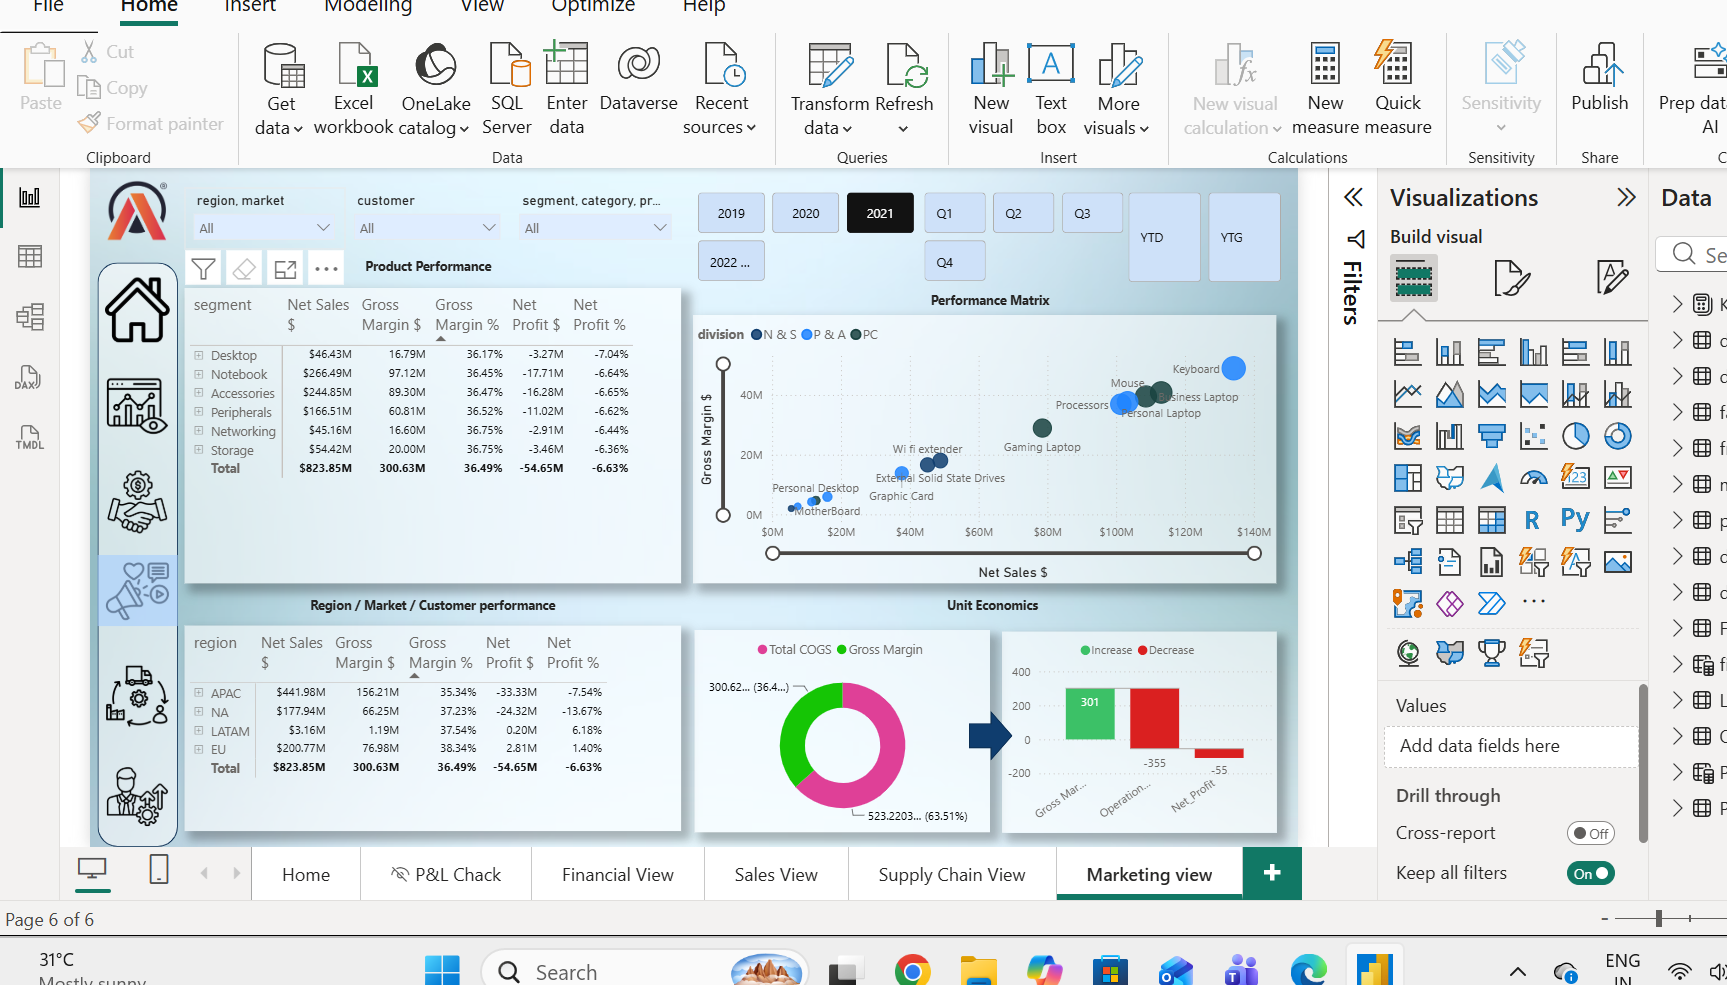

This screenshot's page, from the dashboard's own definition file:
{"tool":"powerbi","page":{"name":"Marketing view","canvas":[1280,720],"ordinal":5},"visuals":[{"type":"advancedSlicerVisual","fields":{"Values":["fiscal_year.FY Desc"]},"box":[639.4,20.7,240.2,105],"z":0},{"type":"advancedSlicerVisual","fields":{"Values":["dim_date.Quarter"]},"box":[879.6,20.7,223.3,105],"z":1000},{"type":"advancedSlicerVisual","fields":{"Values":["dim_date.YTD_YTG"]},"box":[1096,20.8,172.8,105.6],"z":2000},{"type":"slicer","fields":{"Values":[" dim_market.region"," dim_market.market"]},"box":[100.8,20.8,169.6,65.6],"z":3000},{"type":"slicer","fields":{"Values":[" dim_product.segment"," dim_product.category"," dim_product.product"]},"box":[445.4,20.7,181.3,65.2],"z":4000},{"type":"slicer","fields":{"Values":["dim_customer.customer"]},"box":[270.4,20.7,175,65.2],"z":5000},{"type":"shape","box":[8.2,100,85.2,619.7],"z":6000},{"type":"image","box":[8.2,13.1,85.2,63.9],"z":7000},{"type":"image","box":[16.4,213.1,68.9,78.7],"z":8000},{"type":"image","box":[16.4,116.4,68.9,68.9],"z":9000},{"type":"image","box":[16.4,411.5,68.9,73.8],"z":10000},{"type":"image","box":[16.4,318,68.9,72.1],"z":11000},{"type":"image","box":[16.4,521.3,68.9,77],"z":12000},{"type":"image","box":[16.4,627.9,68.9,77],"z":13000},{"type":"shape","box":[8,410.4,85.2,75.4],"z":14000},{"type":"textbox","box":[90.7,89.1,536,38.2],"z":15000},{"type":"textbox","box":[641,448.6,628.3,38.2],"z":16000},{"type":"textbox","box":[639.4,125.7,629.9,38.2],"z":17000},{"type":"pivotTable","fields":{"Rows":[" dim_product.segment"," dim_product.category"," dim_product.product"],"Values":["Key Mesures.Net Sales $","Key Mesures.Gross Margin $","Key Mesures.Gross Margin %","Key Mesures.Net_Profit $","Key Mesures.Net_Profit %"]},"box":[100.2,127.2,526.5,313.4],"z":18000},{"type":"scatterChart","fields":{"Category":[" dim_product.product"," dim_product.category"," dim_product.segment"],"X":["Key Mesures.Net Sales $"],"Y":["Key Mesures.Gross Margin $"],"Series":[" dim_product.division"],"Size":["Key Mesures.Net Sales $"]},"box":[639.4,155.9,618.7,284.7],"z":19000},{"type":"pivotTable","fields":{"Rows":[" dim_market.region"," dim_market.market"," dim_product.product"],"Values":["Key Mesures.Net Sales $","Key Mesures.Gross Margin $","Key Mesures.Gross Margin %","Key Mesures.Net_Profit $","Key Mesures.Net_Profit %"]},"box":[100.2,485.1,526.5,217.9],"z":20000},{"type":"donutChart","fields":{"Y":["Key Mesures.P & L Velue"],"Category":["P & L Rows.Description"]},"box":[641,489.9,313.4,214.7],"z":21000},{"type":"waterfallChart","fields":{"Category":["P & L Rows.Description"],"Y":["Key Mesures.P & L Velue"]},"box":[967.1,491.5,291.1,213.1],"z":22000},{"type":"shape","box":[932.1,575.8,46.1,52.5],"z":23000},{"type":"textbox","box":[100.2,448.6,526.5,38.2],"z":24000}]}

Visuals, with their boxes on the page's 1280x720 design canvas (x1, y1, x2, y2). These are canvas units, not pixel positions in the 1727x985 screenshot, which may show the page scaled, cropped or inside an application window:
advancedSlicerVisual - fiscal_year.FY Desc: {"left": 639, "top": 21, "right": 880, "bottom": 126}
advancedSlicerVisual - dim_date.Quarter: {"left": 880, "top": 21, "right": 1103, "bottom": 126}
advancedSlicerVisual - dim_date.YTD_YTG: {"left": 1096, "top": 21, "right": 1269, "bottom": 126}
slicer -  dim_market.region x  dim_market.market: {"left": 101, "top": 21, "right": 270, "bottom": 86}
slicer -  dim_product.segment x  dim_product.category: {"left": 445, "top": 21, "right": 627, "bottom": 86}
slicer - dim_customer.customer: {"left": 270, "top": 21, "right": 445, "bottom": 86}
shape: {"left": 8, "top": 100, "right": 93, "bottom": 720}
image: {"left": 8, "top": 13, "right": 93, "bottom": 77}
image: {"left": 16, "top": 213, "right": 85, "bottom": 292}
image: {"left": 16, "top": 116, "right": 85, "bottom": 185}
image: {"left": 16, "top": 412, "right": 85, "bottom": 485}
image: {"left": 16, "top": 318, "right": 85, "bottom": 390}
image: {"left": 16, "top": 521, "right": 85, "bottom": 598}
image: {"left": 16, "top": 628, "right": 85, "bottom": 705}
shape: {"left": 8, "top": 410, "right": 93, "bottom": 486}
textbox: {"left": 91, "top": 89, "right": 627, "bottom": 127}
textbox: {"left": 641, "top": 449, "right": 1269, "bottom": 487}
textbox: {"left": 639, "top": 126, "right": 1269, "bottom": 164}
pivotTable -  dim_product.segment x  dim_product.category: {"left": 100, "top": 127, "right": 627, "bottom": 441}
scatterChart -  dim_product.product x  dim_product.category: {"left": 639, "top": 156, "right": 1258, "bottom": 441}
pivotTable -  dim_market.region x  dim_market.market: {"left": 100, "top": 485, "right": 627, "bottom": 703}
donutChart - Key Mesures.P & L Velue x P & L Rows.Description: {"left": 641, "top": 490, "right": 954, "bottom": 705}
waterfallChart - P & L Rows.Description x Key Mesures.P & L Velue: {"left": 967, "top": 492, "right": 1258, "bottom": 705}
shape: {"left": 932, "top": 576, "right": 978, "bottom": 628}
textbox: {"left": 100, "top": 449, "right": 627, "bottom": 487}
